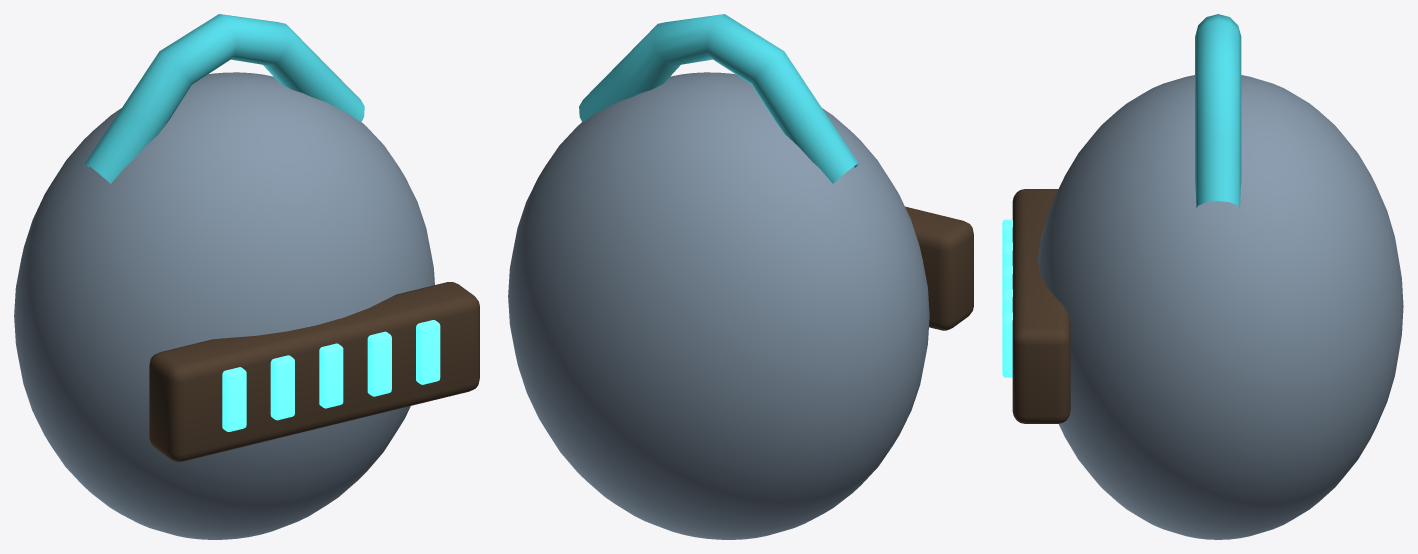
Rendered from helm.glb.
3 renders of one model, left to right at view 1: azimuth 30°, elevation 25°; view 2: azimuth 150°, elevation 25°; view 3: azimuth 270°, elevation 25°, orthographic.
Parts seen in each view (by area): view 1: HELM_SHELL_PRIMARY, VISOR_SECONDARY, HELM_CREST_ACCENT, VISOR_SLIT_EMISSIVE.003, VISOR_SLIT_EMISSIVE.001, VISOR_SLIT_EMISSIVE, VISOR_SLIT_EMISSIVE.002, VISOR_SLIT_EMISSIVE.004; view 2: HELM_SHELL_PRIMARY, HELM_CREST_ACCENT, VISOR_SECONDARY; view 3: HELM_SHELL_PRIMARY, VISOR_SECONDARY, HELM_CREST_ACCENT, VISOR_SLIT_EMISSIVE.004.
Part boxes in pixels (x1,y1,x2,y2): HELM_SHELL_PRIMARY: (14, 72, 434, 539); VISOR_SECONDARY: (149, 282, 479, 461); HELM_CREST_ACCENT: (85, 14, 364, 183); VISOR_SLIT_EMISSIVE.003: (367, 331, 391, 396); VISOR_SLIT_EMISSIVE.001: (270, 355, 294, 420); VISOR_SLIT_EMISSIVE: (222, 367, 246, 431); VISOR_SLIT_EMISSIVE.002: (319, 343, 343, 408); VISOR_SLIT_EMISSIVE.004: (416, 320, 440, 384); HELM_SHELL_PRIMARY: (508, 72, 929, 539); HELM_CREST_ACCENT: (579, 14, 858, 183); VISOR_SECONDARY: (905, 206, 973, 330); HELM_SHELL_PRIMARY: (1037, 75, 1403, 539); VISOR_SECONDARY: (1012, 189, 1070, 423); HELM_CREST_ACCENT: (1195, 14, 1241, 207); VISOR_SLIT_EMISSIVE.004: (1002, 312, 1012, 377).
Size of the model in its own units: 1.48 by 1.91 by 1.39.
